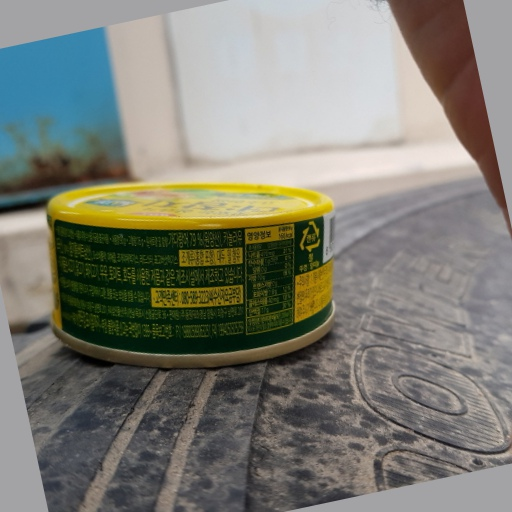Metal_1: (41, 184, 343, 361)
